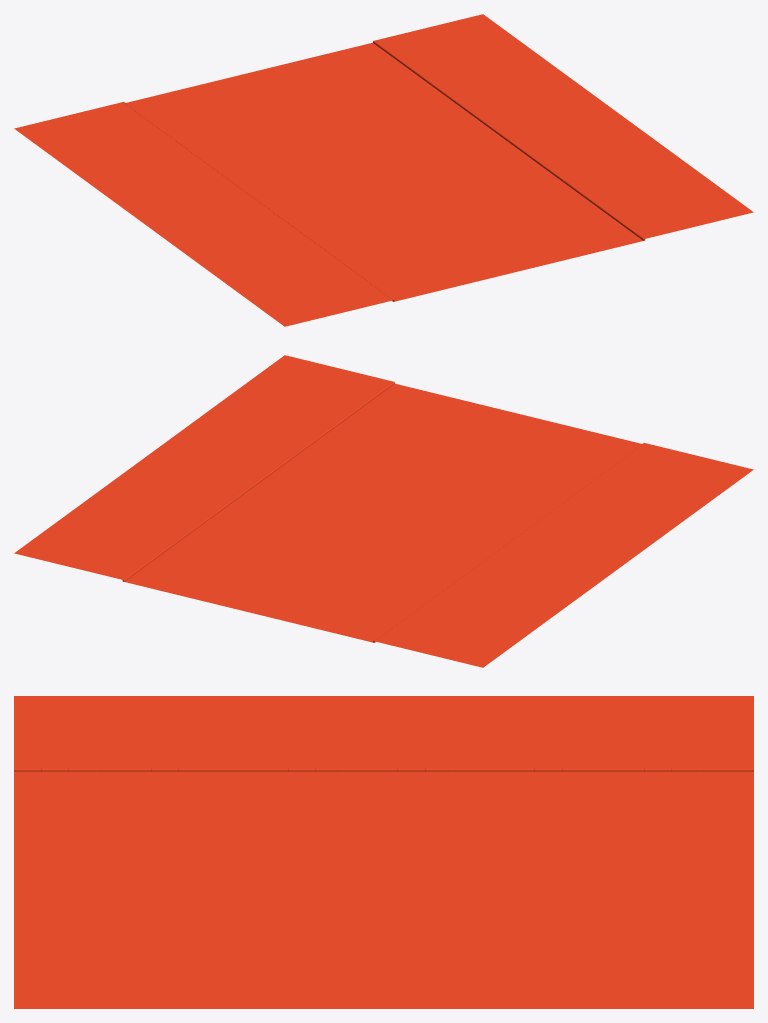
The model's file is SM_Mainroad_Stop_Middle_30x30_City.fbx.
3 renders of one model, top to bottom at view 1: azimuth 30°, elevation 25°; view 2: azimuth 150°, elevation 25°; view 3: azimuth 270°, elevation 25°, orthographic. The views are drawn at different scales.
Visible parts, largest first — view 1: SM_Mainroad_Stop_Middle_30x30_City; view 2: SM_Mainroad_Stop_Middle_30x30_City; view 3: SM_Mainroad_Stop_Middle_30x30_City.
Boxes of the visible parts, <box> form: SM_Mainroad_Stop_Middle_30x30_City: <box>14,14,753,326</box>; SM_Mainroad_Stop_Middle_30x30_City: <box>14,355,753,667</box>; SM_Mainroad_Stop_Middle_30x30_City: <box>14,696,753,1008</box>.
Bounding box in the file's own units: 30 × 0.1084 × 30.
